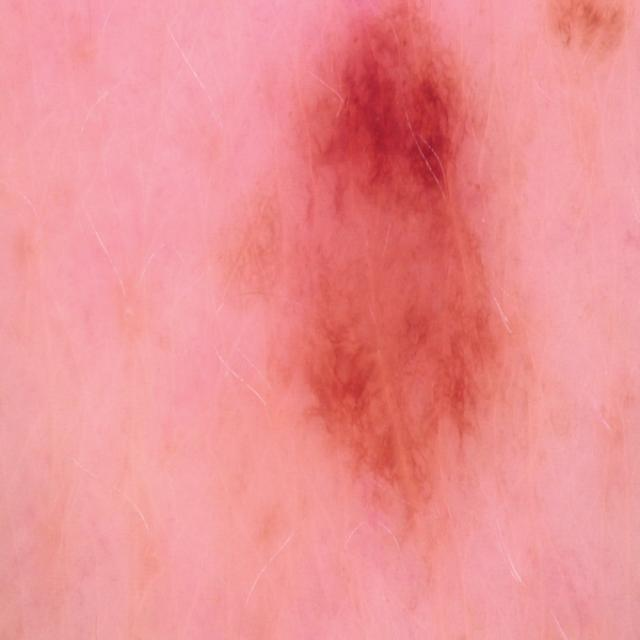NV: (204, 0, 537, 594)
